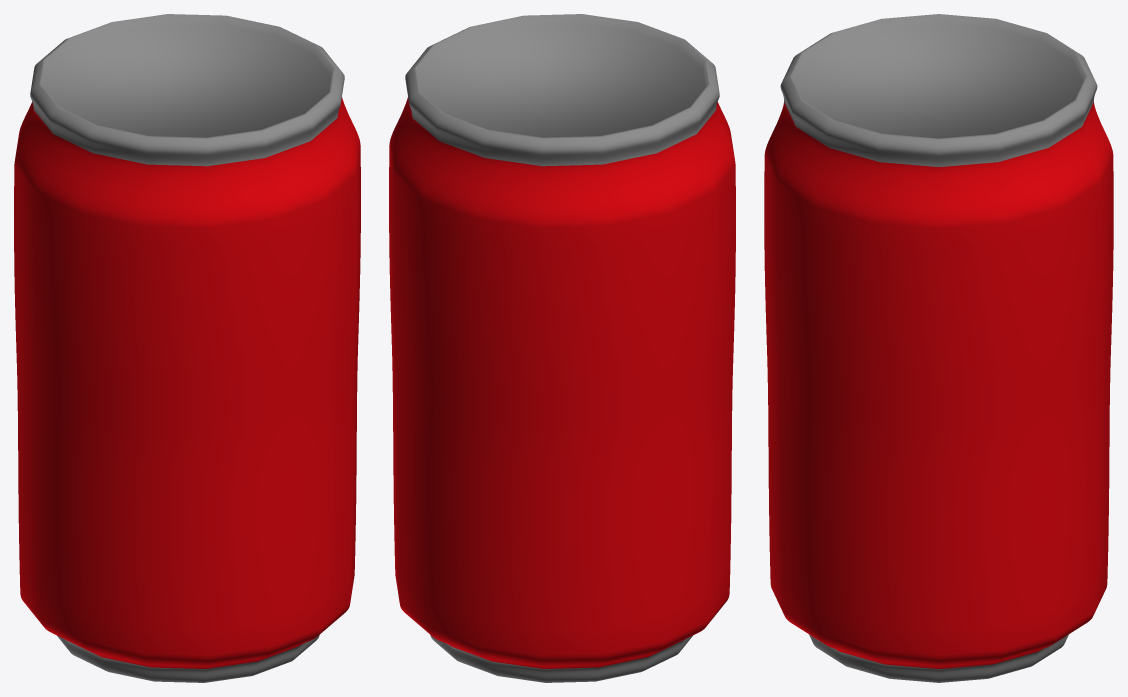
File: lata.fbx
The picture shows the model from 3 angles, left to right: view 1: azimuth 30°, elevation 25°; view 2: azimuth 150°, elevation 25°; view 3: azimuth 270°, elevation 25°; orthographic projection.
Parts seen in each view (by area): view 1: Lata; view 2: Lata; view 3: Lata.
Part boxes in pixels (bbox=[...]): Lata: bbox=[14, 14, 360, 682]; Lata: bbox=[389, 14, 735, 682]; Lata: bbox=[764, 14, 1113, 682].
Size of the model in its own units: 568 by 995 by 568.
